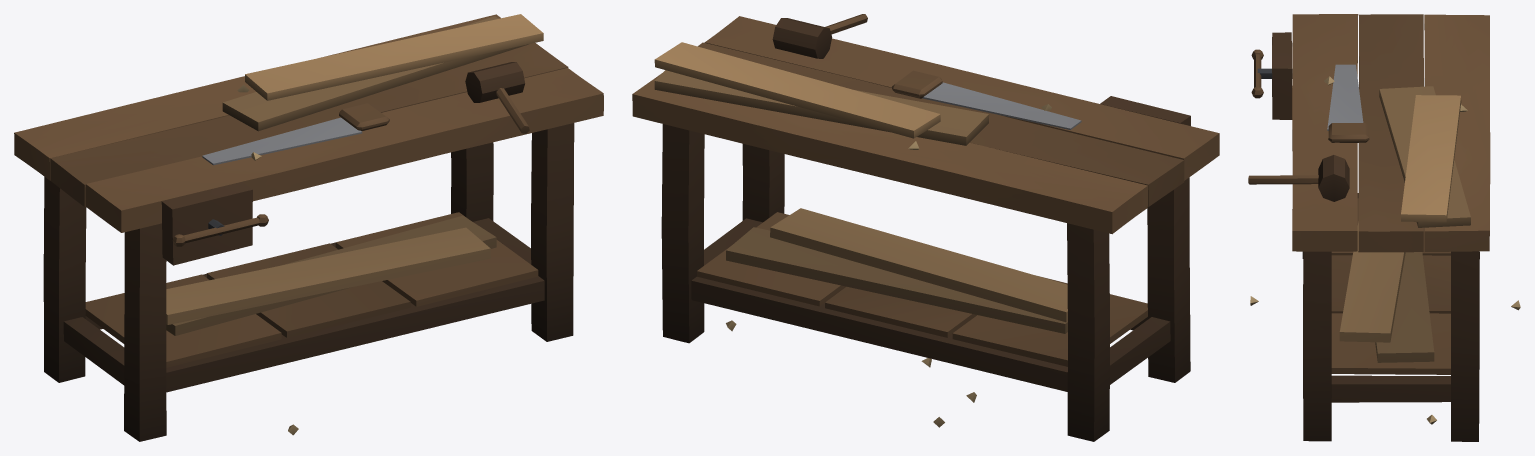
The model's file is ph_prop_workbench.glb.
3 renders of one model, left to right at view 1: azimuth 30°, elevation 25°; view 2: azimuth 150°, elevation 25°; view 3: azimuth 270°, elevation 25°, orthographic. The views are drawn at different scales.
Visible parts, largest first — view 1: ph_prop_workbench; view 2: ph_prop_workbench; view 3: ph_prop_workbench.
Part boxes in pixels (box(x1,y1,x2,y2)): ph_prop_workbench: box(14, 14, 603, 441); ph_prop_workbench: box(632, 14, 1219, 441); ph_prop_workbench: box(1248, 14, 1520, 441).
Bounding box in the file's own units: 1.81 × 0.9811 × 0.9592.
